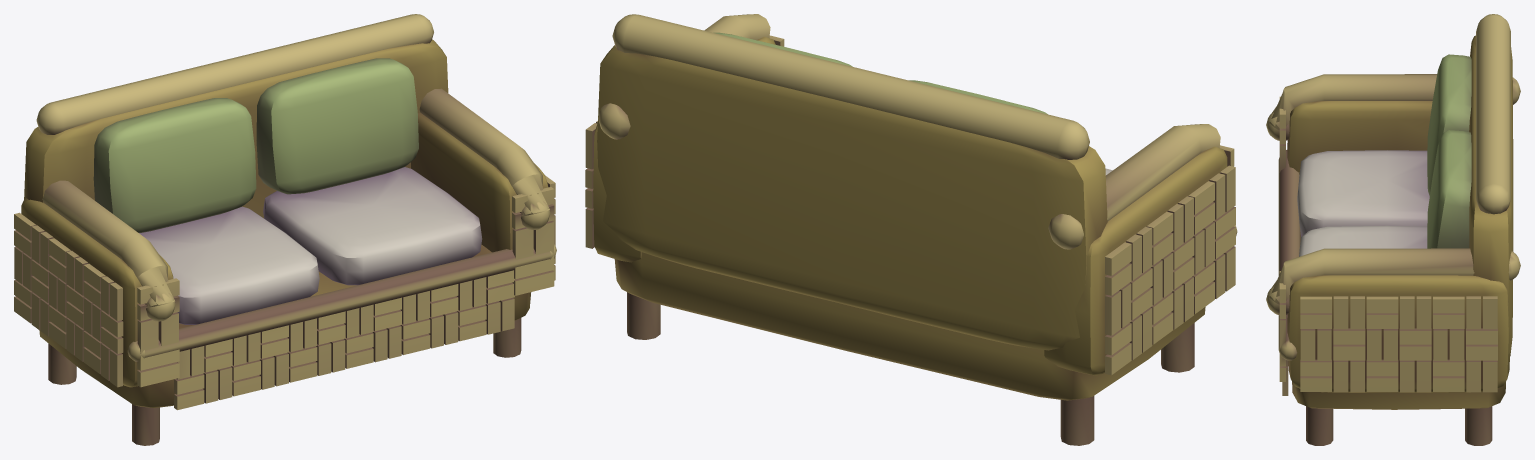
File: sofa_garden.glb
3 renders of one model, left to right at view 1: azimuth 30°, elevation 25°; view 2: azimuth 150°, elevation 25°; view 3: azimuth 270°, elevation 25°, orthographic. The views are drawn at different scales.
Visible parts, largest first — view 1: sofa_garden; view 2: sofa_garden; view 3: sofa_garden.
Part boxes in pixels (x1,y1,x2,y2): sofa_garden: (14, 14, 556, 445); sofa_garden: (585, 14, 1237, 445); sofa_garden: (1266, 14, 1520, 445).
Size of the model in its own units: 1.94 by 1.14 by 1.03.
